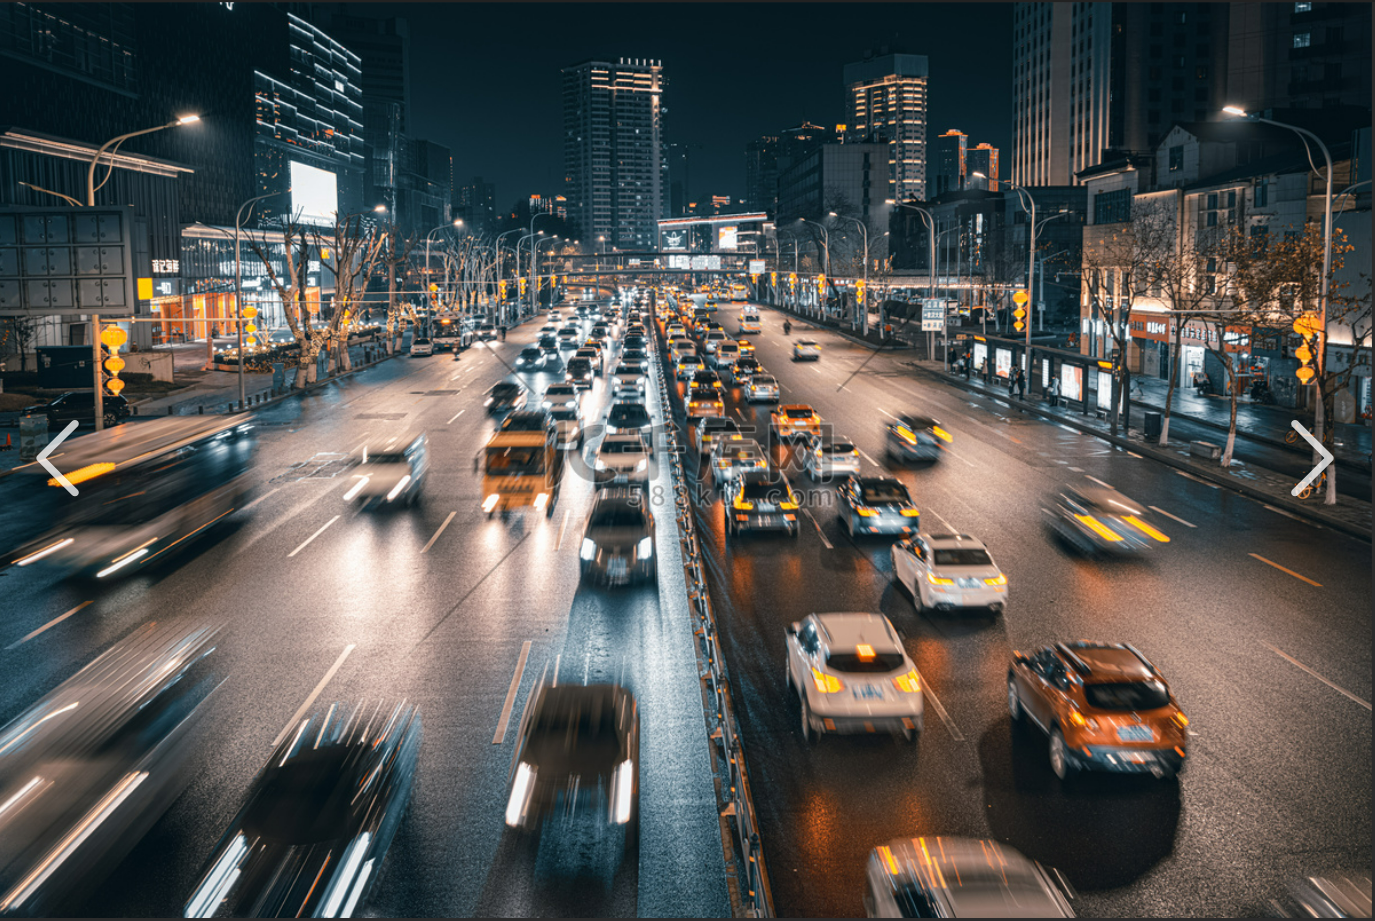car: (203, 709, 441, 920), (37, 399, 278, 585), (1009, 637, 1205, 779), (781, 607, 932, 744), (540, 678, 644, 865), (861, 836, 1081, 921), (1048, 480, 1166, 572), (892, 535, 1017, 612), (573, 494, 664, 595), (482, 409, 564, 513), (355, 436, 430, 519), (839, 469, 923, 536), (723, 470, 803, 535), (591, 435, 661, 498), (883, 412, 947, 468), (715, 441, 773, 482), (802, 434, 860, 473), (770, 405, 828, 436), (697, 416, 750, 446), (738, 374, 784, 407), (690, 386, 727, 419), (788, 341, 821, 364), (738, 314, 769, 335)
